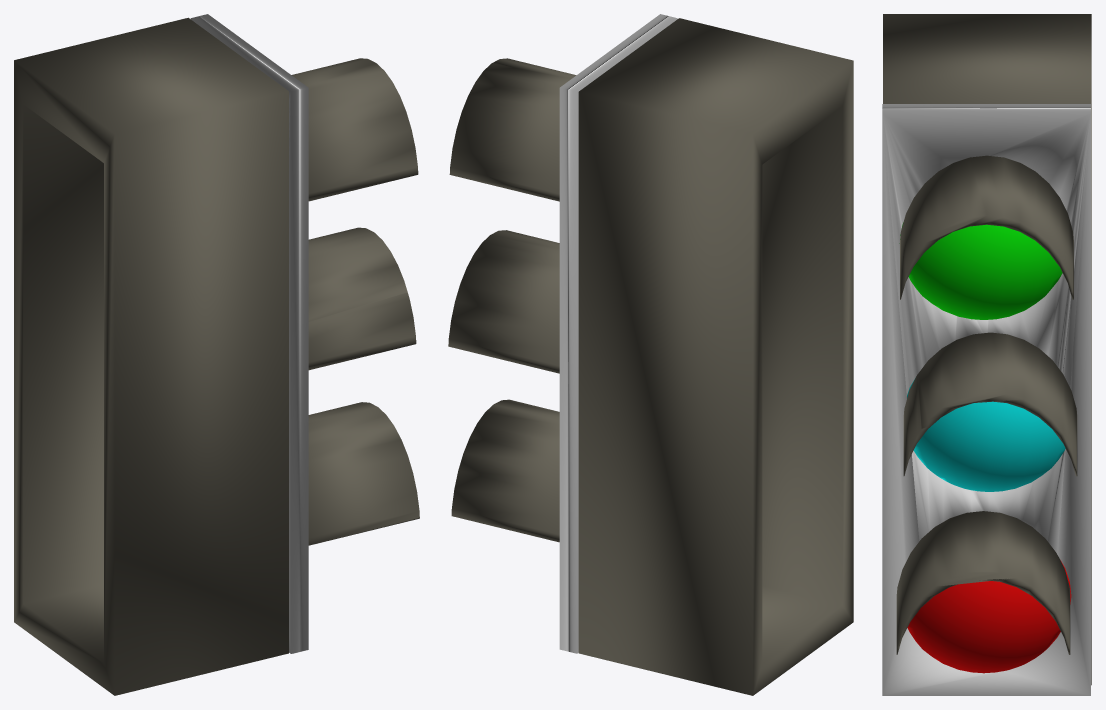
File: swiatla.fbx
The picture shows the model from 3 angles, left to right: view 1: azimuth 30°, elevation 25°; view 2: azimuth 150°, elevation 25°; view 3: azimuth 270°, elevation 25°; orthographic projection. The views are drawn at different scales.
Visible parts, largest first — view 1: Cube.003, Cube.001, Cylinder.004, Cylinder.003, Cylinder; view 2: Cube.003, Cube.001, Cylinder, Cylinder.003, Cylinder.004; view 3: Cube.001, Cube.003, Cylinder.004, Cylinder, Cylinder.003, Sphere, Sphere.002, Sphere.001.
Part boxes in pixels (box(x1,y1,x2,y2)): Cube.003: box(14, 17, 288, 695); Cube.001: box(190, 14, 308, 653); Cylinder.004: box(308, 402, 419, 545); Cylinder.003: box(291, 58, 418, 201); Cylinder: box(308, 227, 416, 370); Cube.003: box(578, 18, 853, 695); Cube.001: box(559, 14, 677, 653); Cylinder: box(448, 230, 559, 373); Cylinder.003: box(449, 58, 576, 201); Cylinder.004: box(451, 399, 559, 542); Cube.001: box(882, 104, 1090, 695); Cube.003: box(883, 14, 1091, 685); Cylinder.004: box(896, 511, 1070, 654); Cylinder: box(903, 332, 1077, 476); Cylinder.003: box(900, 155, 1073, 299); Sphere: box(899, 222, 1062, 319); Sphere.002: box(907, 560, 1071, 673); Sphere.001: box(907, 379, 1065, 491).
Bounding box in the file's own units: 3.58 × 6.17 × 2.
